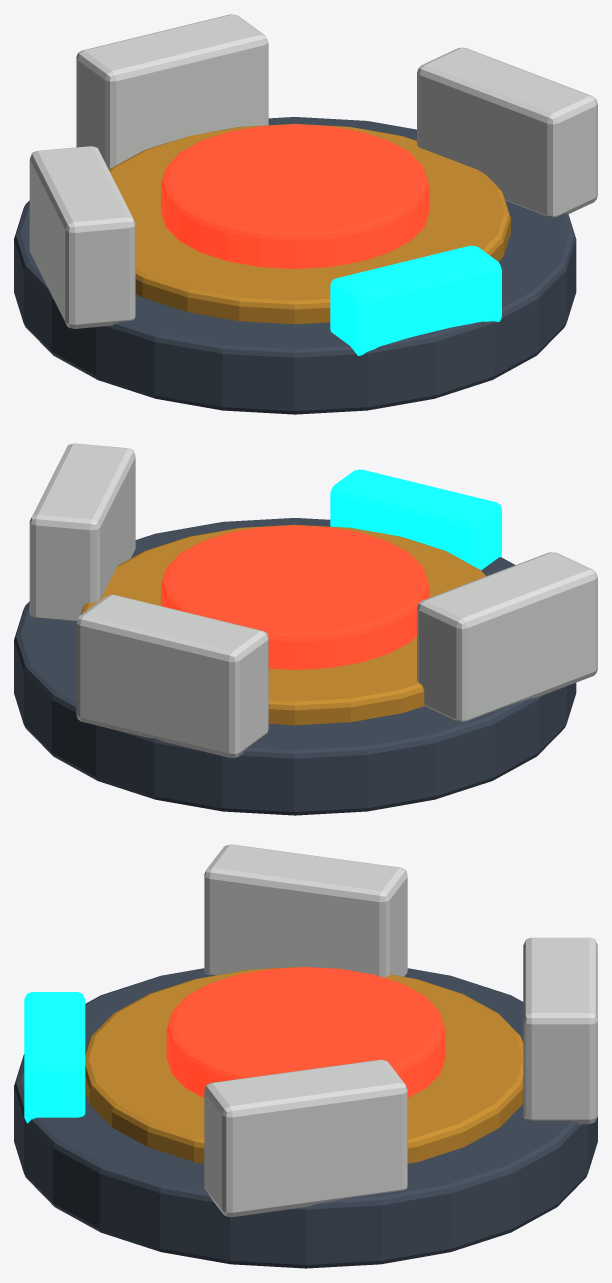
File: ArcFurnaceModel.fbx
3 renders of one model, top to bottom at view 1: azimuth 30°, elevation 25°; view 2: azimuth 150°, elevation 25°; view 3: azimuth 270°, elevation 25°, orthographic. The views are drawn at different scales.
Visible parts, largest first — view 1: Furnace armored plinth, Furnace red arc core, Furnace amber induction ring, East ceramic shield, North ceramic shield, West ceramic shield, South return manifold; view 2: Furnace armored plinth, Furnace red arc core, North ceramic shield, West ceramic shield, East ceramic shield, Furnace amber induction ring, South return manifold; view 3: Furnace armored plinth, Furnace amber induction ring, East ceramic shield, Furnace red arc core, West ceramic shield, North ceramic shield, South return manifold.
Part boxes in pixels (x1=…): Furnace armored plinth: x1=14, y1=117, x2=576, y2=414; Furnace red arc core: x1=161, y1=124, x2=429, y2=268; Furnace amber induction ring: x1=109, y1=123, x2=510, y2=324; East ceramic shield: x1=417, y1=47, x2=597, y2=217; North ceramic shield: x1=76, y1=14, x2=268, y2=169; West ceramic shield: x1=29, y1=146, x2=135, y2=328; South return manifold: x1=330, y1=245, x2=501, y2=355; Furnace armored plinth: x1=14, y1=518, x2=576, y2=815; Furnace red arc core: x1=161, y1=525, x2=429, y2=669; North ceramic shield: x1=76, y1=594, x2=268, y2=757; West ceramic shield: x1=417, y1=552, x2=597, y2=721; East ceramic shield: x1=29, y1=443, x2=135, y2=621; Furnace amber induction ring: x1=81, y1=524, x2=485, y2=725; South return manifold: x1=330, y1=469, x2=501, y2=570; Furnace armored plinth: x1=14, y1=968, x2=597, y2=1268; Furnace amber induction ring: x1=85, y1=967, x2=523, y2=1163; East ceramic shield: x1=204, y1=1059, x2=407, y2=1217; Furnace red arc core: x1=166, y1=967, x2=445, y2=1097; West ceramic shield: x1=204, y1=844, x2=407, y2=977; North ceramic shield: x1=523, y1=937, x2=597, y2=1124; South return manifold: x1=24, y1=992, x2=85, y2=1123.
Size of the model in its own units: 3.74 by 1.12 by 3.44.
